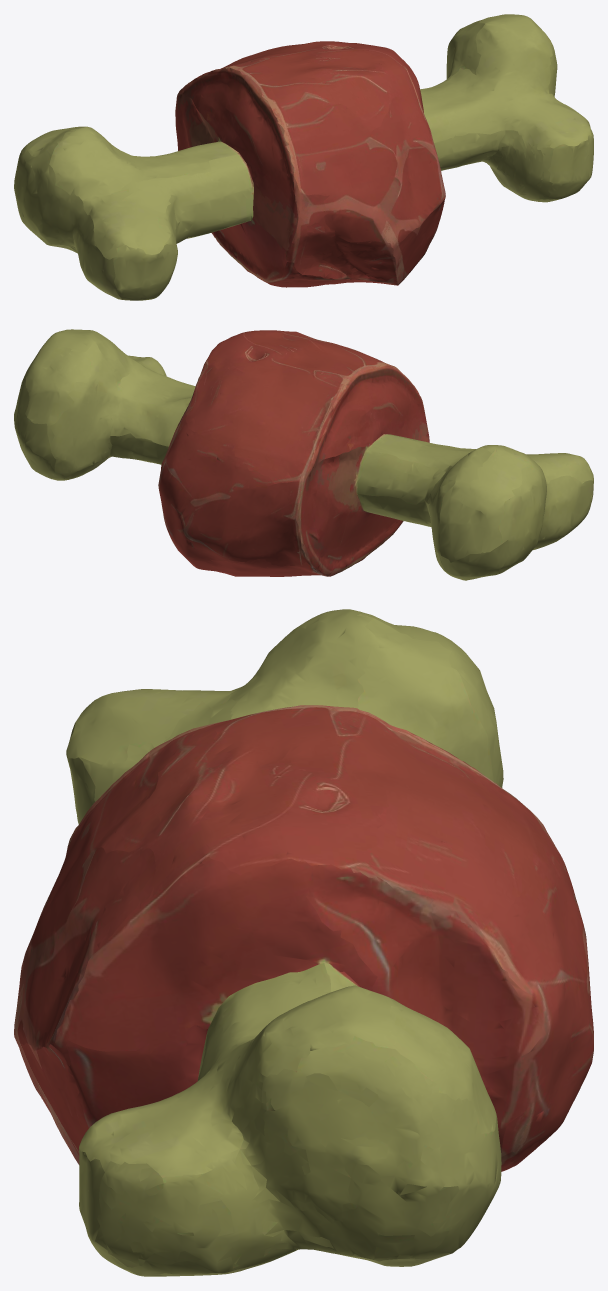
The model's file is item_meat_small.glb.
3 views of the same model, one above another, from view 1: azimuth 30°, elevation 25°; view 2: azimuth 150°, elevation 25°; view 3: azimuth 270°, elevation 25° (orthographic). The views are drawn at different scales.
Parts seen in each view (by area): view 1: item_meat_small; view 2: item_meat_small; view 3: item_meat_small.
Part boxes in pixels (x1,y1,x2,y2): item_meat_small: [14, 14, 593, 300]; item_meat_small: [14, 329, 593, 580]; item_meat_small: [14, 609, 593, 1276].
Size of the model in its own units: 0.15 by 0.0628 by 0.0756.
1 material, 1 textured.
